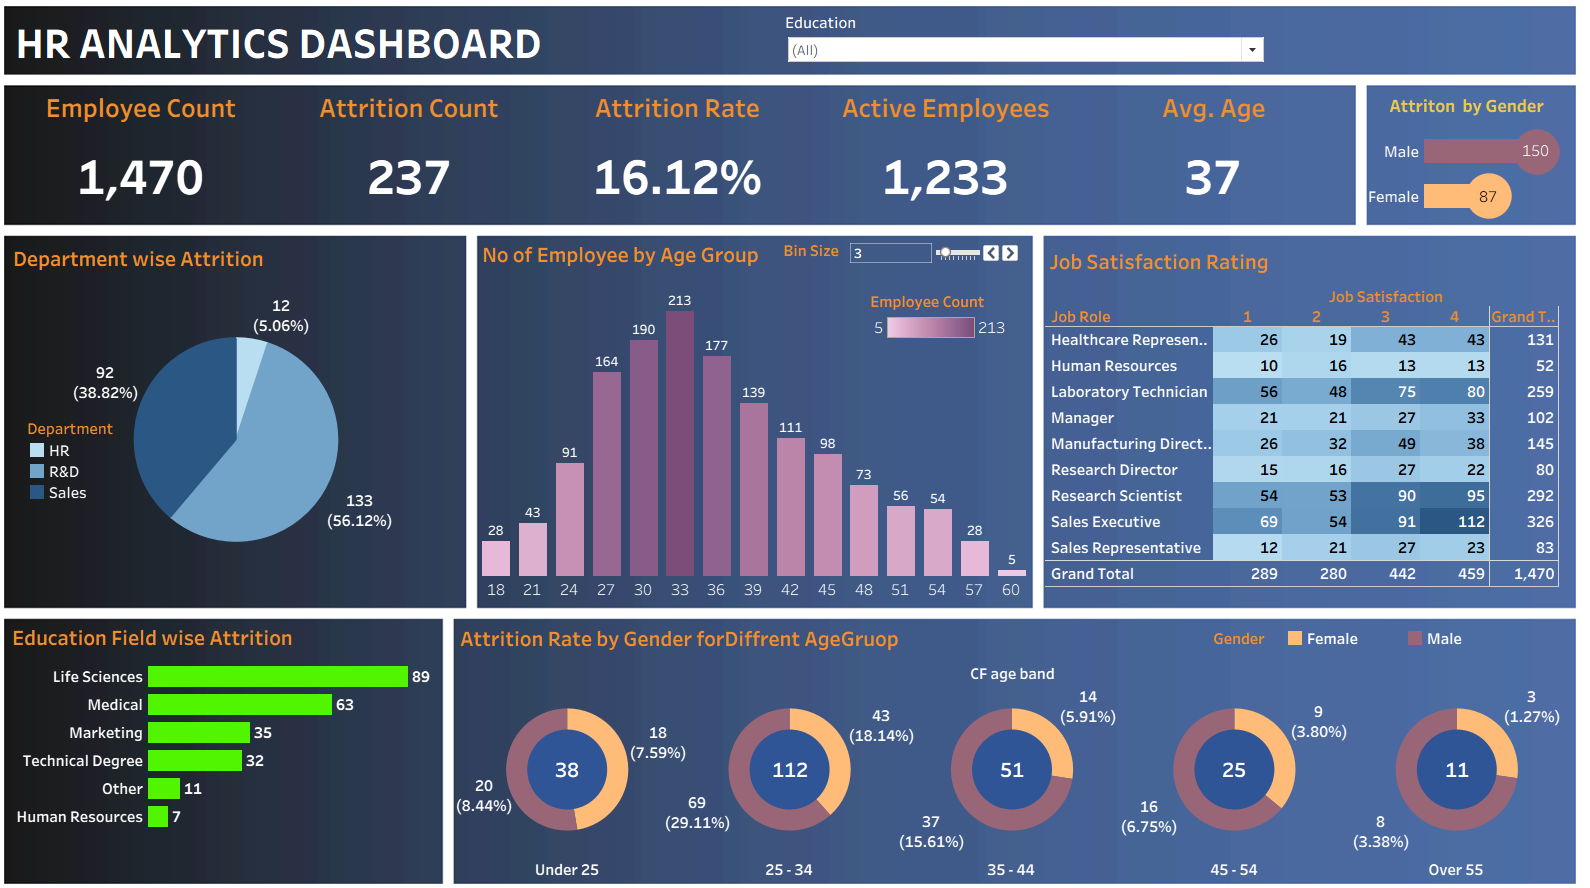

The page's visual inventory and layout, read from the dashboard file:
{"tool":"powerbi","page":{"name":"Page 1","canvas":[1280,720],"ordinal":0},"visuals":[{"type":"card","title":"Overall Employees","fields":{"Values":["Sum(HR data.Employee Count)"]},"box":[17.8,53.5,240,110],"z":0},{"type":"card","title":"Atrrition","fields":{"Values":["Sum(HR data.AttritionCount)"]},"box":[269.2,53.5,240.1,109.8],"z":1000},{"type":"card","title":"Attrition Rate","fields":{"Values":["HR data.Attrition Rate"]},"box":[520.7,53.5,240.1,109.8],"z":2000},{"type":"card","title":"Active Employees","fields":{"Values":["HR data.Active Employees"]},"box":[772.2,53.5,240.1,109.8],"z":3000},{"type":"card","title":"Average Age","fields":{"Values":["Avg(HR data.Age)"]},"box":[1023.7,53.5,240.1,109.8],"z":4000},{"type":"pieChart","title":" Department wise Attrition","fields":{"Category":["HR data.Department"],"Y":["Sum(HR data.AttritionCount)"]},"box":[18.1,177.3,400,271],"z":5000},{"type":"columnChart","title":"No of Employee by Age Group","fields":{"Series":["HR data.Gender"],"Category":["HR data.CF_age band"],"Y":["Sum(HR data.Employee Count)"]},"box":[436.1,177.3,400,271],"z":6000},{"type":"pivotTable","title":" Job Satisfaction Rate","fields":{"Rows":["HR data.Job Role"],"Columns":["HR data.Job Satisfaction"],"Values":["Sum(HR data.Employee Count)"]},"box":[854.2,177.3,410.2,271.4],"z":7000},{"type":"barChart","title":" Education wise Attrition","fields":{"Y":["Sum(HR data.AttritionCount)"],"Category":["HR data.Education Field"]},"box":[18.1,458.4,293.2,244.9],"z":8000},{"type":"donutChart","title":" Under 25","fields":{"Category":["HR data.Gender"],"Y":["Sum(HR data.AttritionCount)"],"Series":["HR data.CF_age band"]},"box":[326.9,507.9,179.8,195.4],"z":9000},{"type":"textbox","box":[326.9,458.4,937.4,31.4],"z":10000},{"type":"donutChart","title":"25 - 34","fields":{"Category":["HR data.Gender"],"Y":["Sum(HR data.AttritionCount)"],"Series":["HR data.CF_age band"]},"box":[516.1,507.9,179.8,195.4],"z":11000},{"type":"donutChart","title":"35 - 44","fields":{"Category":["HR data.Gender"],"Y":["Sum(HR data.AttritionCount)"],"Series":["HR data.CF_age band"]},"box":[705.2,507.9,181,195.4],"z":12000},{"type":"donutChart","title":"45 - 55","fields":{"Category":["HR data.Gender"],"Y":["Sum(HR data.AttritionCount)"],"Series":["HR data.CF_age band"]},"box":[895.5,507.9,179.8,195.4],"z":13000},{"type":"donutChart","title":" Over 55","fields":{"Category":["HR data.Gender"],"Y":["Sum(HR data.AttritionCount)"],"Series":["HR data.CF_age band"]},"box":[1084.6,507.9,179.8,195.4],"z":14000},{"type":"textbox","box":[15.1,0,506.3,41.2],"z":15000},{"type":"card","fields":{"Values":["Sum(HR data.AttritionCount)"]},"box":[393.8,605.1,46.7,31.6],"z":16000},{"type":"card","fields":{"Values":["Sum(HR data.AttritionCount)"]},"box":[772.6,598.3,46.7,31.6],"z":17000},{"type":"card","fields":{"Values":["Sum(HR data.AttritionCount)"]},"box":[961.9,598.3,46.7,31.6],"z":18000},{"type":"card","fields":{"Values":["Sum(HR data.AttritionCount)"]},"box":[1151.3,598.3,46.7,31.6],"z":19000},{"type":"card","fields":{"Values":["Sum(HR data.AttritionCount)"]},"box":[577.7,595.5,57.6,37],"z":20000},{"type":"slicer","fields":{"Values":["HR data.Education"]},"box":[521.4,0,742.4,41.2],"z":21000}]}

Visuals, with their boxes in screenshot pixels (x1, y1, x2, y2), scaled from the page's 1280x720 canvas onto the 1590x888 screenshot:
"Overall Employees" card: (left=22, top=66, right=320, bottom=202)
"Atrrition" card: (left=334, top=66, right=633, bottom=201)
"Attrition Rate" card: (left=647, top=66, right=945, bottom=201)
"Active Employees" card: (left=959, top=66, right=1257, bottom=201)
"Average Age" card: (left=1272, top=66, right=1570, bottom=201)
" Department wise Attrition" pieChart: (left=22, top=219, right=519, bottom=553)
"No of Employee by Age Group" columnChart: (left=542, top=219, right=1039, bottom=553)
" Job Satisfaction Rate" pivotTable: (left=1061, top=219, right=1571, bottom=553)
" Education wise Attrition" barChart: (left=22, top=565, right=387, bottom=867)
" Under 25" donutChart: (left=406, top=626, right=629, bottom=867)
textbox: (left=406, top=565, right=1570, bottom=604)
"25 - 34" donutChart: (left=641, top=626, right=864, bottom=867)
"35 - 44" donutChart: (left=876, top=626, right=1101, bottom=867)
"45 - 55" donutChart: (left=1112, top=626, right=1336, bottom=867)
" Over 55" donutChart: (left=1347, top=626, right=1571, bottom=867)
textbox: (left=19, top=0, right=648, bottom=51)
card - Sum(HR data.AttritionCount): (left=489, top=746, right=547, bottom=785)
card - Sum(HR data.AttritionCount): (left=960, top=738, right=1018, bottom=777)
card - Sum(HR data.AttritionCount): (left=1195, top=738, right=1253, bottom=777)
card - Sum(HR data.AttritionCount): (left=1430, top=738, right=1488, bottom=777)
card - Sum(HR data.AttritionCount): (left=718, top=734, right=789, bottom=780)
slicer - HR data.Education: (left=648, top=0, right=1570, bottom=51)
